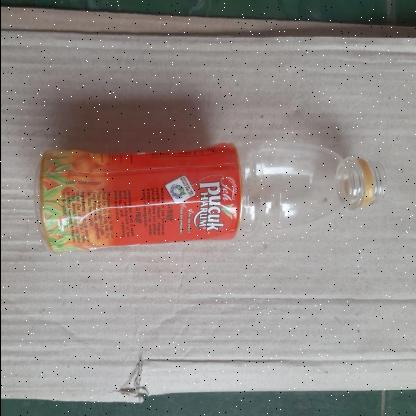Plastic Bottle: (32, 141, 386, 253)
